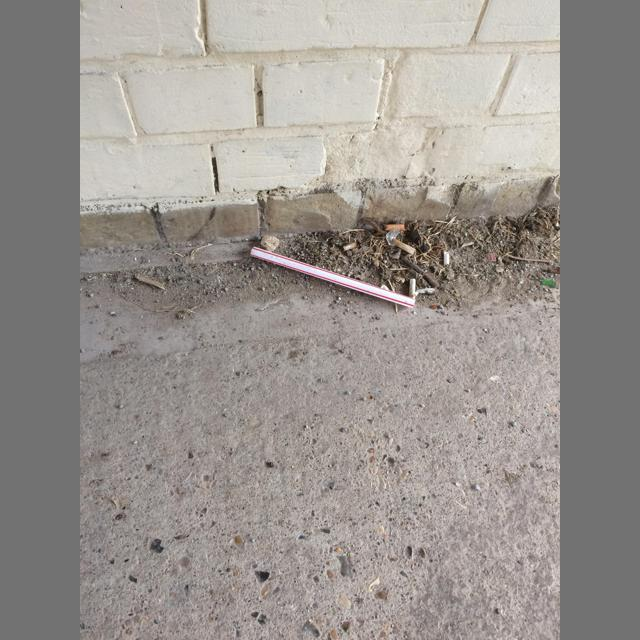litter: (251, 247, 416, 308), (392, 238, 416, 255), (386, 227, 400, 246), (415, 289, 436, 296), (381, 225, 404, 231), (342, 242, 357, 251), (542, 279, 556, 288), (409, 279, 415, 299), (444, 251, 449, 267)
